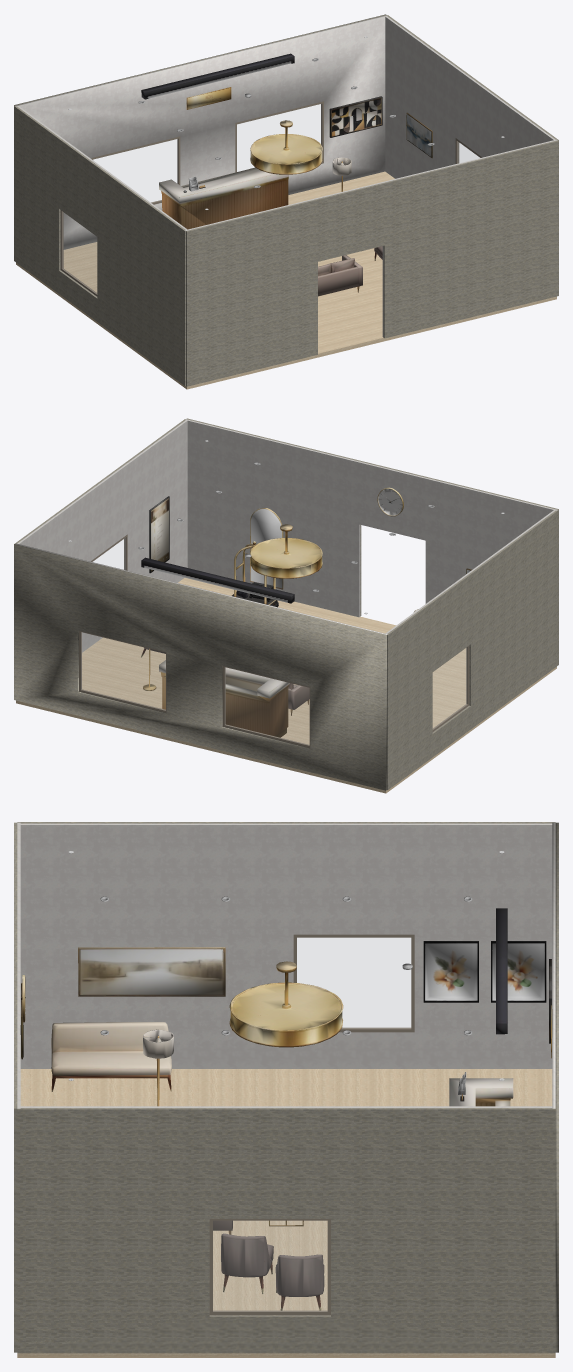
The model's file is scene_named.glb.
The picture shows the model from 3 angles, top to bottom: view 1: azimuth 30°, elevation 25°; view 2: azimuth 150°, elevation 25°; view 3: azimuth 270°, elevation 25°; orthographic projection. The views are drawn at different scales.
Parts seen in each view (by area): view 1: south_wall_exterior_lobby/south_wall_exterior_lobby/geometry, north_wall_lobby/north_wall_lobby/geometry_0, west_wall_exterior_lobby/west_wall_exterior_lobby/geometry_0, east_wall_lobby/east_wall_lobby/geometry_0, floor_lobby, reception_desk_0, window_1_lobby/window_1_lobby/glass, chandelier_0, window_2_lobby/window_2_lobby/glass, window_4_lobby/window_4_lobby/glass, linear_led_ceiling_fixture_0, wall_print_1 (+7 smaller); view 2: north_wall_exterior_lobby/north_wall_exterior_lobby/geometry, south_wall_lobby/south_wall_lobby/geometry_0, west_wall_exterior_lobby/west_wall_exterior_lobby/geometry_0, east_wall_lobby/east_wall_lobby/geometry_0, floor_lobby, window_1_lobby/window_1_lobby/glass, window_2_lobby/window_2_lobby/glass, reception_desk_0, chandelier_0, window_4_lobby/window_4_lobby/glass, linear_led_ceiling_fixture_0, mirror_0 (+9 smaller); view 3: east_wall_exterior_lobby/east_wall_exterior_lobby/geometry_0, west_wall_lobby/west_wall_lobby/geometry_0, floor_lobby, window_3_lobby/window_3_lobby/glass, window_4_lobby/window_4_lobby/glass, photograph_0, chandelier_0, waiting_bench_0, botanical_print_0, botanical_print_1, accent_chair_1, north_wall_exterior_lobby/north_wall_exterior_lobby/geometry (+11 smaller).
Boxes of the visible parts, x1=… form: south_wall_exterior_lobby/south_wall_exterior_lobby/geometry: x1=186, y1=140, x2=558, y2=386; north_wall_lobby/north_wall_lobby/geometry_0: x1=15, y1=15, x2=387, y2=249; west_wall_exterior_lobby/west_wall_exterior_lobby/geometry_0: x1=14, y1=106, x2=185, y2=385; east_wall_lobby/east_wall_lobby/geometry_0: x1=385, y1=16, x2=555, y2=178; floor_lobby: x1=16, y1=171, x2=556, y2=389; reception_desk_0: x1=159, y1=167, x2=288, y2=229; window_1_lobby/window_1_lobby/glass: x1=94, y1=139, x2=177, y2=202; chandelier_0: x1=250, y1=120, x2=322, y2=174; window_2_lobby/window_2_lobby/glass: x1=237, y1=104, x2=321, y2=171; window_4_lobby/window_4_lobby/glass: x1=63, y1=212, x2=96, y2=293; linear_led_ceiling_fixture_0: x1=141, y1=53, x2=294, y2=99; wall_print_1: x1=329, y1=96, x2=382, y2=137; north_wall_exterior_lobby/north_wall_exterior_lobby/geometry: x1=14, y1=544, x2=386, y2=790; south_wall_lobby/south_wall_lobby/geometry_0: x1=185, y1=419, x2=557, y2=617; west_wall_exterior_lobby/west_wall_exterior_lobby/geometry_0: x1=387, y1=510, x2=558, y2=789; east_wall_lobby/east_wall_lobby/geometry_0: x1=17, y1=420, x2=187, y2=652; floor_lobby: x1=16, y1=578, x2=556, y2=793; window_1_lobby/window_1_lobby/glass: x1=225, y1=667, x2=309, y2=744; window_2_lobby/window_2_lobby/glass: x1=81, y1=632, x2=165, y2=709; reception_desk_0: x1=159, y1=660, x2=289, y2=737; chandelier_0: x1=250, y1=524, x2=322, y2=578; window_4_lobby/window_4_lobby/glass: x1=433, y1=648, x2=466, y2=728; linear_led_ceiling_fixture_0: x1=141, y1=557, x2=294, y2=603; mirror_0: x1=250, y1=508, x2=283, y2=589; east_wall_exterior_lobby/east_wall_exterior_lobby/geometry_0: x1=17, y1=1108, x2=555, y2=1353; west_wall_lobby/west_wall_lobby/geometry_0: x1=20, y1=823, x2=552, y2=1068; floor_lobby: x1=17, y1=1069, x2=555, y2=1357; window_3_lobby/window_3_lobby/glass: x1=213, y1=1221, x2=327, y2=1311; window_4_lobby/window_4_lobby/glass: x1=297, y1=938, x2=410, y2=1028; photograph_0: x1=78, y1=947, x2=225, y2=996; chandelier_0: x1=229, y1=961, x2=343, y2=1047; waiting_bench_0: x1=51, y1=1022, x2=171, y2=1091; botanical_print_0: x1=423, y1=941, x2=478, y2=1002; botanical_print_1: x1=491, y1=941, x2=546, y2=1002; accent_chair_1: x1=221, y1=1233, x2=273, y2=1293; north_wall_exterior_lobby/north_wall_exterior_lobby/geometry: x1=555, y1=822, x2=558, y2=1352.
Size of the model in its own units: 10.1 by 4.1 by 8.1.
42 materials, 40 textured.
